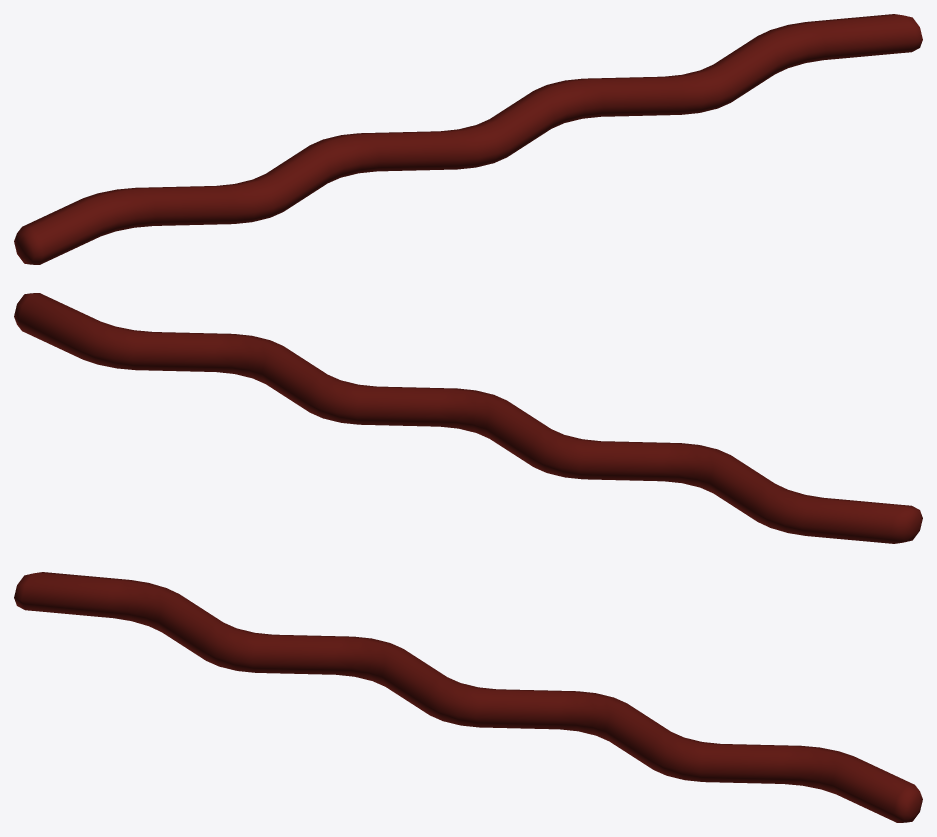
The model's file is Souse.004.fbx.
3 views of the same model, one above another, from view 1: azimuth 30°, elevation 25°; view 2: azimuth 150°, elevation 25°; view 3: azimuth 330°, elevation 25° (orthographic).
Parts seen in each view (by area): view 1: Souse.004; view 2: Souse.004; view 3: Souse.004.
Boxes of the visible parts, x1,y1,x2,y2 form: Souse.004: [14, 14, 922, 264]; Souse.004: [14, 293, 922, 543]; Souse.004: [14, 572, 922, 822].
Size of the model in its own units: 153 by 14.66 by 5.82.
